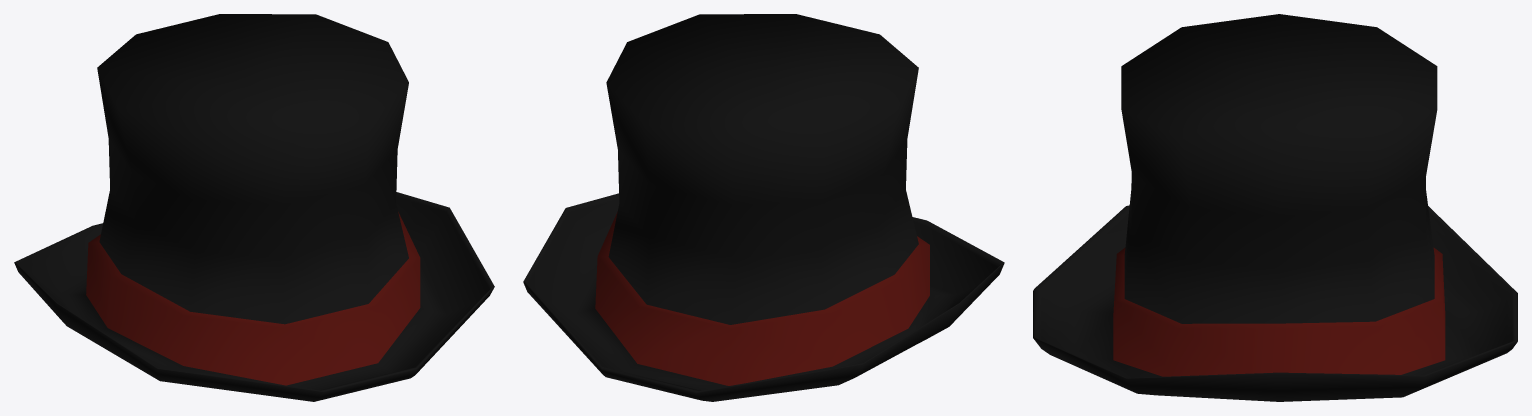
File: Hat_1.FBX
3 views of the same model, side by side, from view 1: azimuth 30°, elevation 25°; view 2: azimuth 150°, elevation 25°; view 3: azimuth 270°, elevation 25° (orthographic). The views are drawn at different scales.
Parts seen in each view (by area): view 1: TopHat3_pCylinder3; view 2: TopHat3_pCylinder3; view 3: TopHat3_pCylinder3.
Boxes of the visible parts, <box> form: TopHat3_pCylinder3: <box>14,14,494,401</box>; TopHat3_pCylinder3: <box>523,14,1004,401</box>; TopHat3_pCylinder3: <box>1033,14,1517,401</box>.
Bounding box in the file's own units: 39.6 × 24.03 × 40.29.
